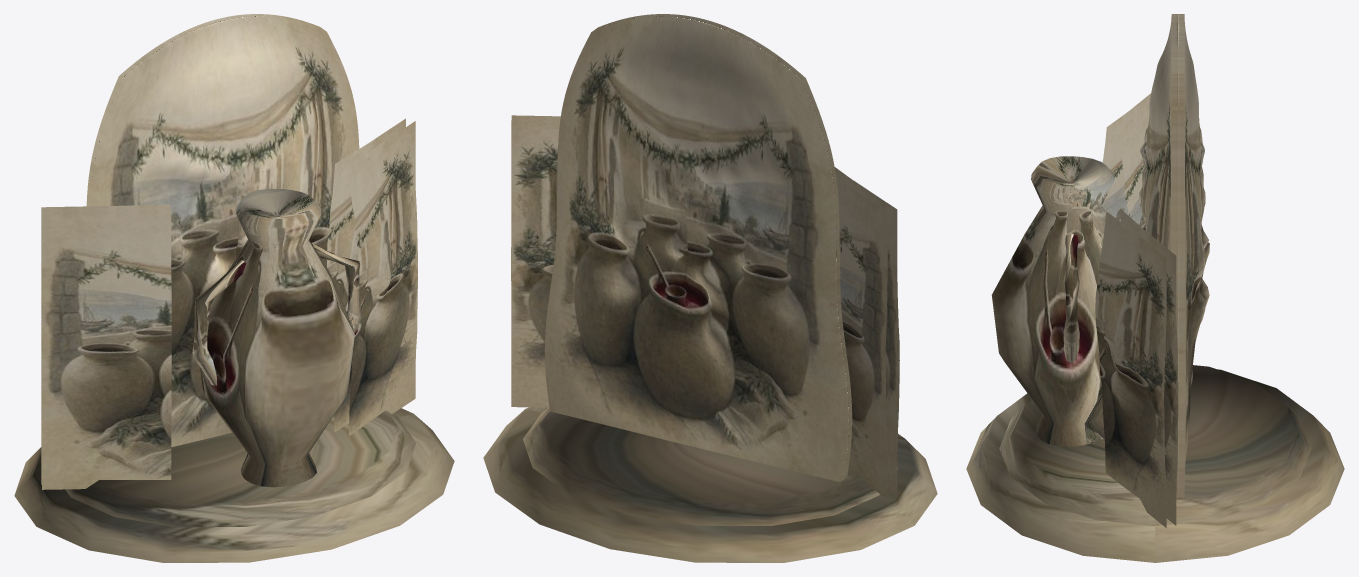
The model's file is come-and-see-6.glb.
3 views of the same model, side by side, from view 1: azimuth 30°, elevation 25°; view 2: azimuth 150°, elevation 25°; view 3: azimuth 270°, elevation 25° (orthographic). The views are drawn at different scales.
Visible parts, largest first — view 1: PaintingSculptureMonument; view 2: PaintingSculptureMonument; view 3: PaintingSculptureMonument.
Part boxes in pixels (left/top/right/bottom): PaintingSculptureMonument: left=14, top=14, right=454, bottom=562; PaintingSculptureMonument: left=483, top=14, right=937, bottom=562; PaintingSculptureMonument: left=966, top=14, right=1344, bottom=562.
Bounding box in the file's own units: 2.76 × 2.99 × 2.35.
1 material, 1 textured.
